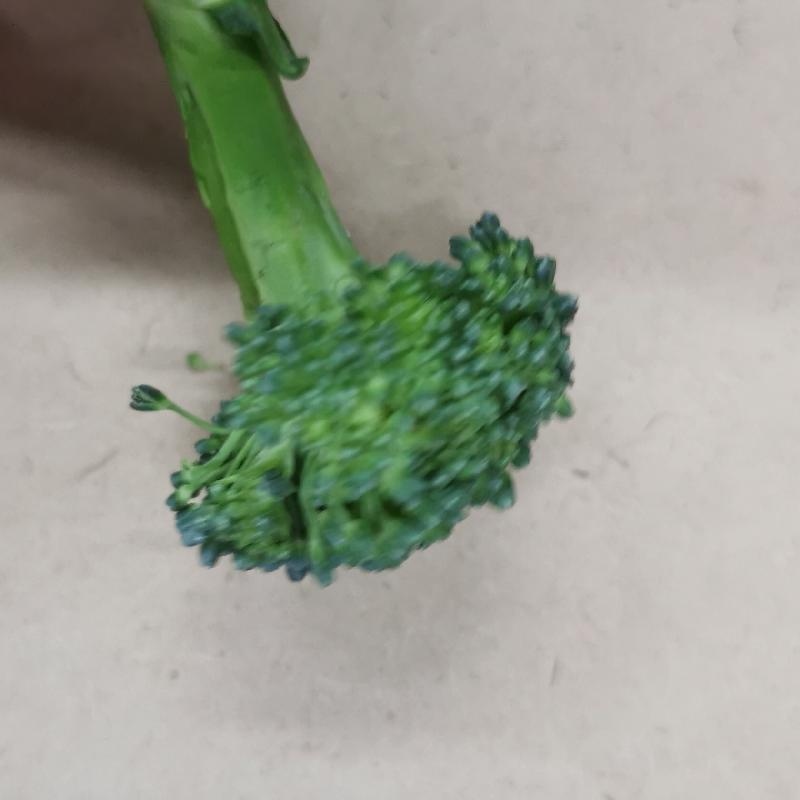broccoli: (149, 0, 581, 578)
